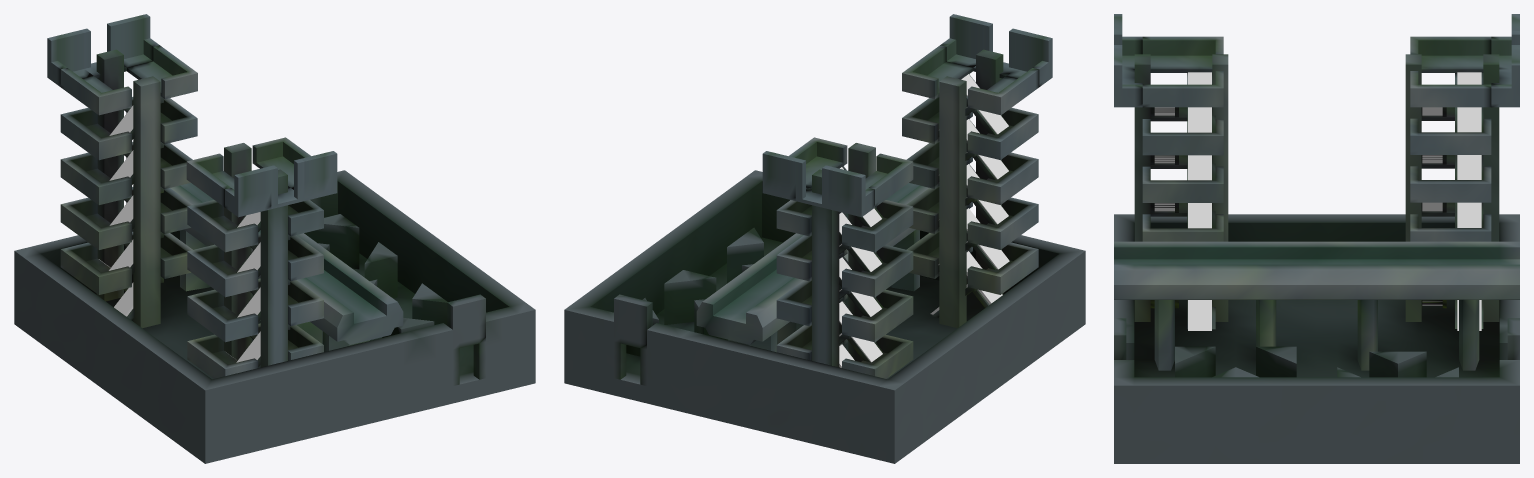
The picture shows the model from 3 angles, left to right: view 1: azimuth 30°, elevation 25°; view 2: azimuth 150°, elevation 25°; view 3: azimuth 270°, elevation 25°; orthographic projection. The views are drawn at different scales.
Visible parts, largest first — view 1: two_tank_roof04, double staircase02, skybridge01, Cylinder22, ramp12, metal; view 2: two_tank_roof04, double staircase02, skybridge01, ramp12, Cylinder22, metal; view 3: two_tank_roof04, double staircase02, skybridge01, ramp12, Cylinder22, metal.
Part boxes in pixels (x1,y1,x2,y2): two_tank_roof04: (14, 170, 535, 463); double staircase02: (47, 14, 337, 378); skybridge01: (170, 183, 403, 351); Cylinder22: (307, 214, 447, 337); ramp12: (99, 105, 260, 362); metal: (120, 96, 290, 366); two_tank_roof04: (564, 170, 1085, 463); double staircase02: (762, 14, 1052, 378); skybridge01: (696, 183, 929, 352); ramp12: (839, 74, 1009, 367); Cylinder22: (626, 227, 763, 356); metal: (839, 74, 1008, 367); two_tank_roof04: (1114, 214, 1519, 463); double staircase02: (1114, 14, 1519, 321); skybridge01: (1114, 241, 1519, 370); ramp12: (1154, 72, 1481, 330); Cylinder22: (1175, 346, 1458, 377); metal: (1150, 73, 1483, 329).
Bounding box in the file's own units: 20 × 16.08 × 20.
